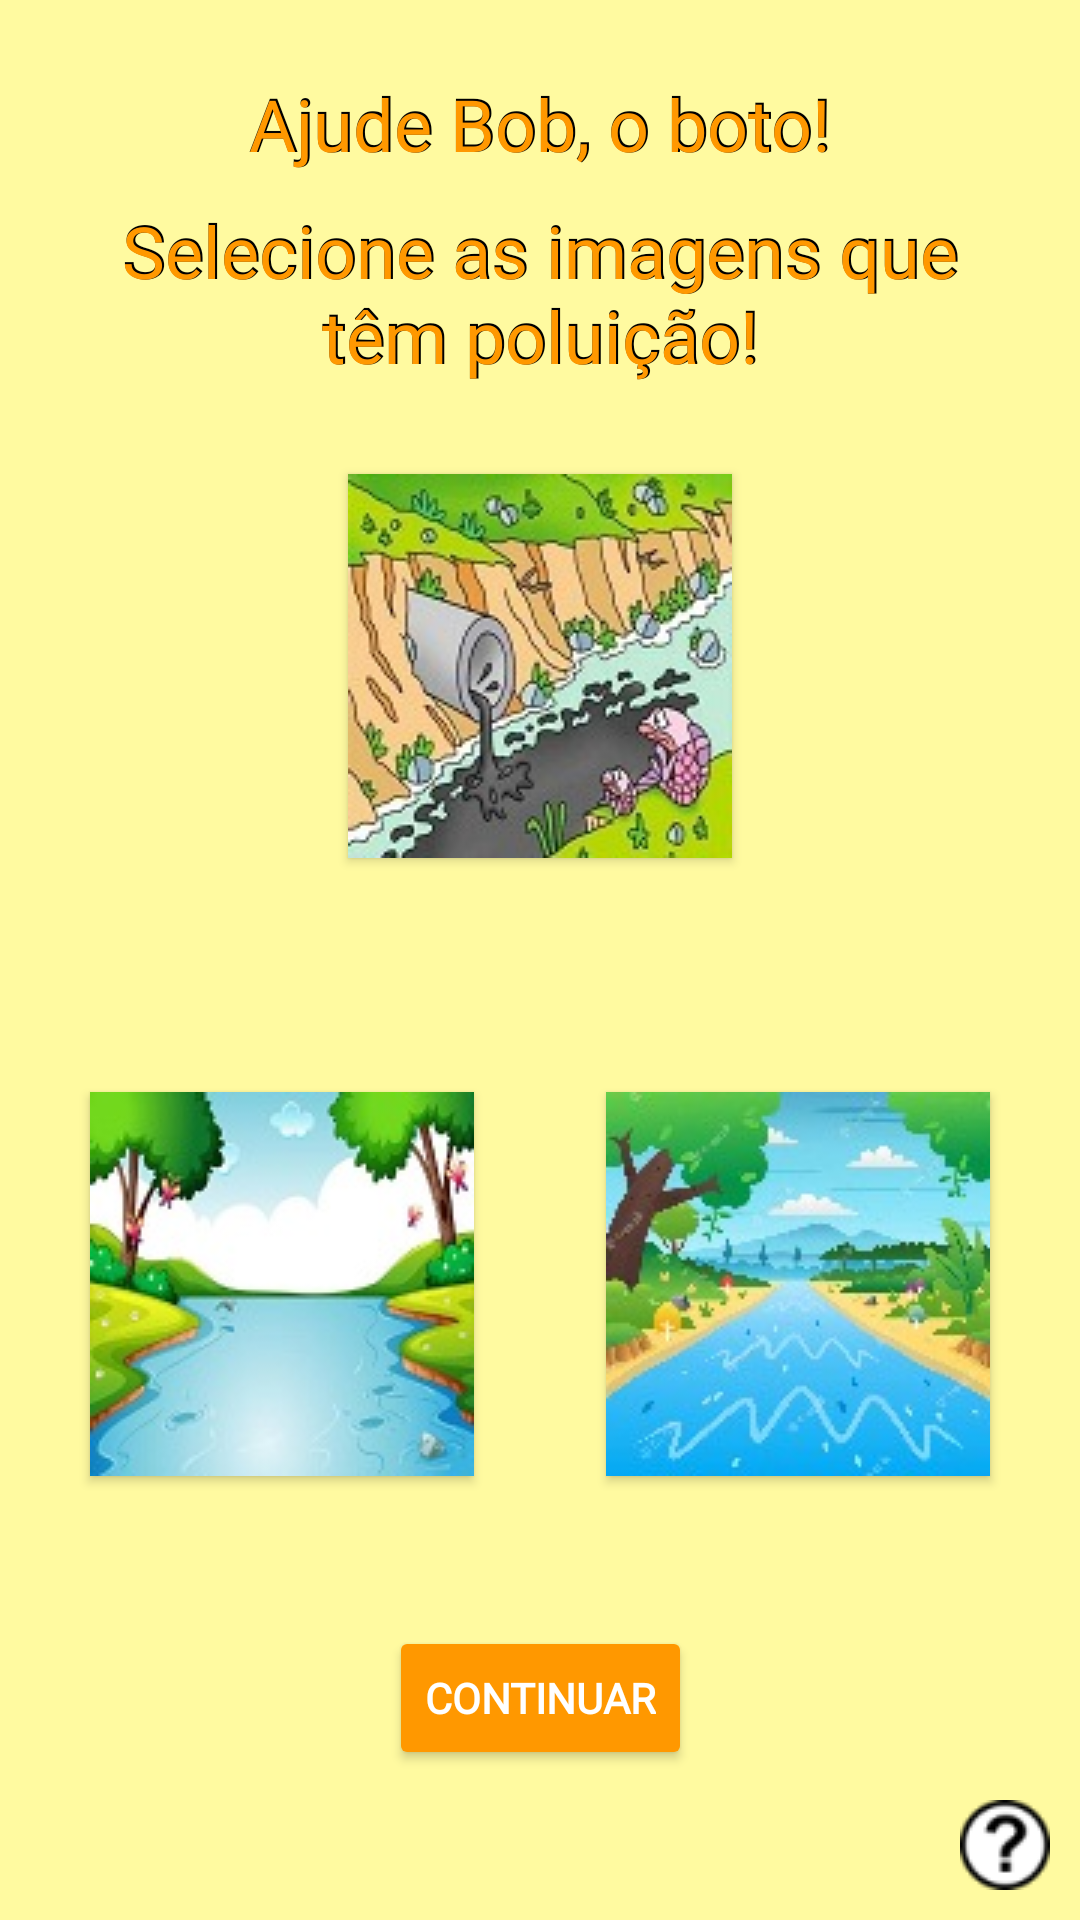

Icons on this 1080px x 1920px Android screen, each with its box as (x1, y1, x2, y2):
tutorial: (960, 1800, 1050, 1890)
